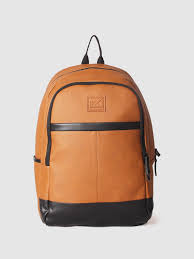backpack: (32, 34, 159, 227)
